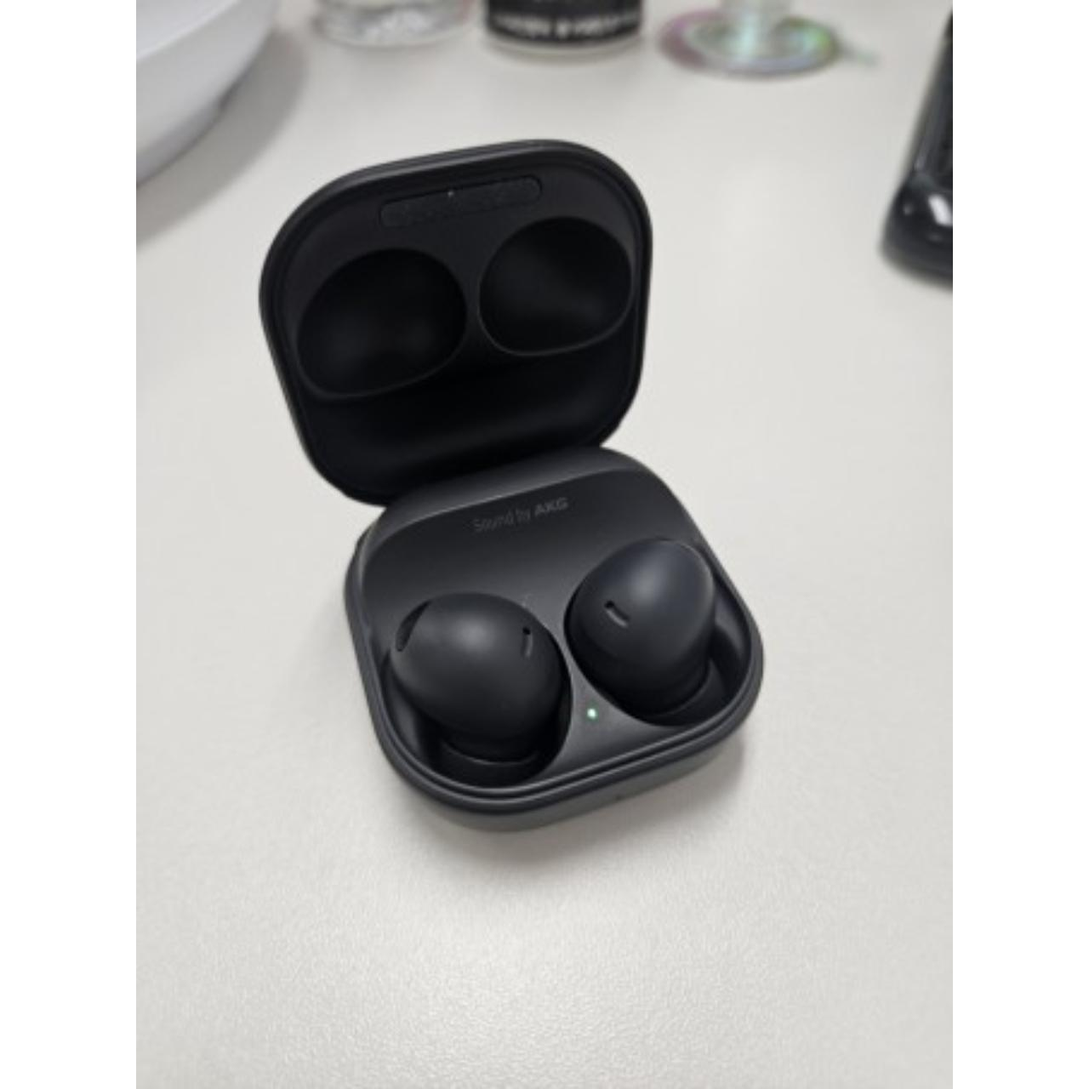Buds: (255, 131, 771, 839)
Buds_Units: (383, 582, 577, 793), (567, 530, 747, 731)
